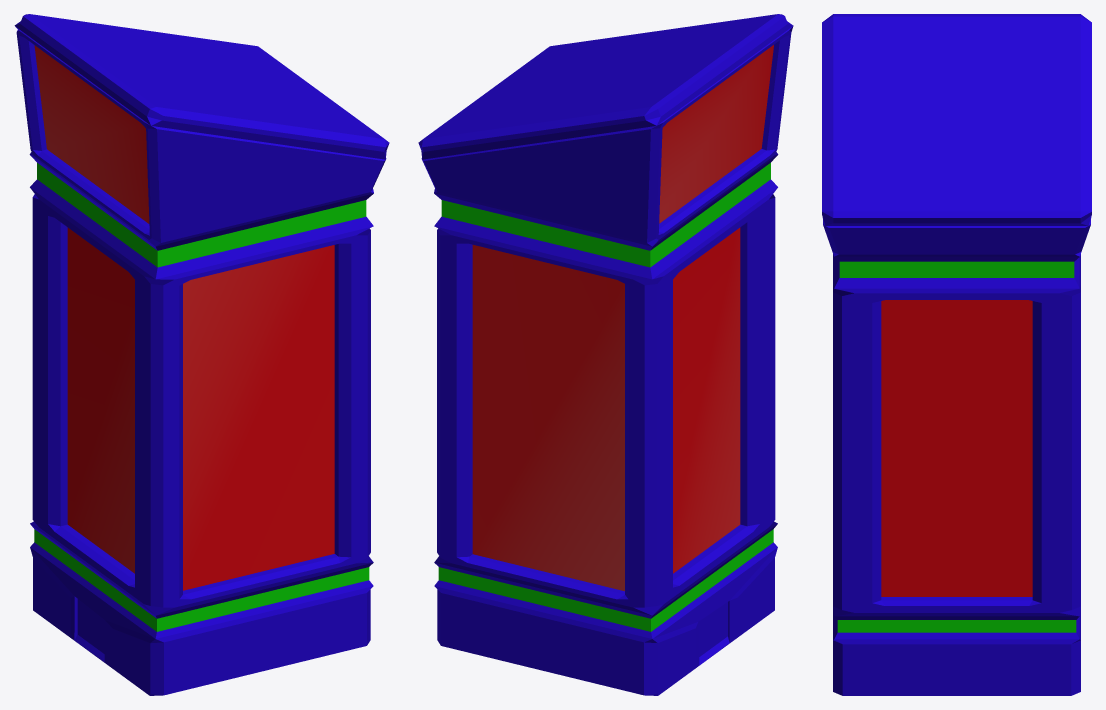
Rendered from House5(Updated).fbx.
The picture shows the model from 3 angles, left to right: view 1: azimuth 30°, elevation 25°; view 2: azimuth 150°, elevation 25°; view 3: azimuth 270°, elevation 25°; orthographic projection. The views are drawn at different scales.
Parts seen in each view (by area): view 1: Cube; view 2: Cube; view 3: Cube.
Boxes of the visible parts, box(x1,y1,x2,y2) form: Cube: box(14, 14, 389, 695); Cube: box(418, 14, 793, 695); Cube: box(822, 14, 1091, 695).
Size of the model in its own units: 8.88 by 20.59 by 8.72.
